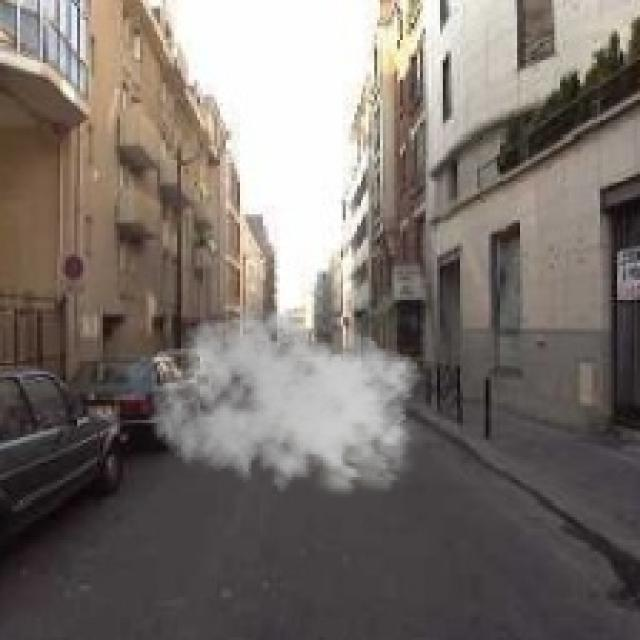smoke: (148, 303, 428, 506)
